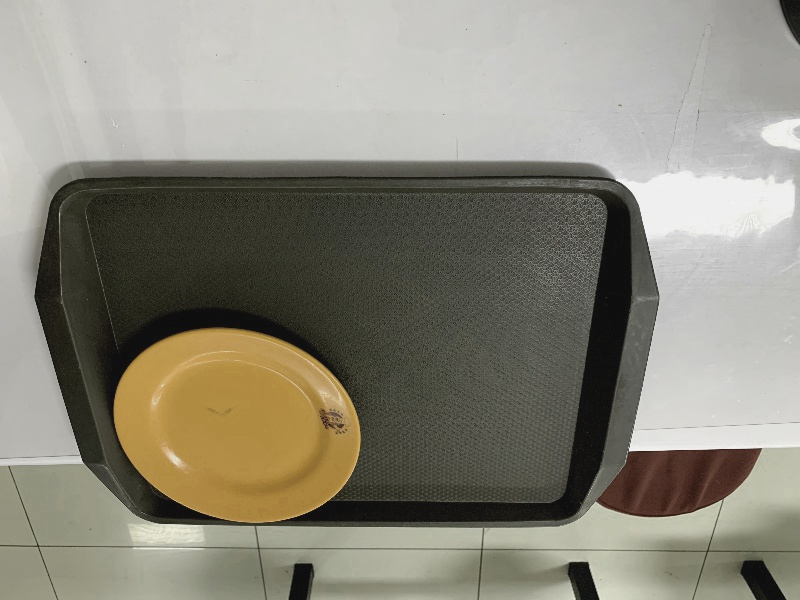dish10: (106, 321, 366, 526)
